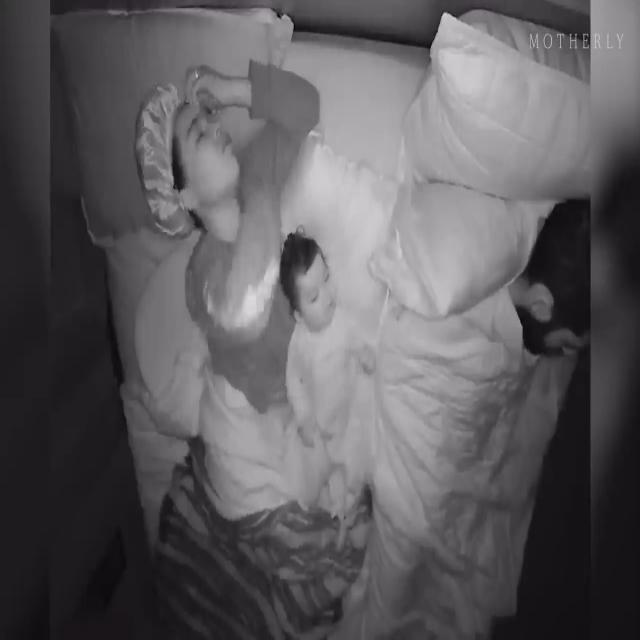baby: (280, 234, 372, 510)
